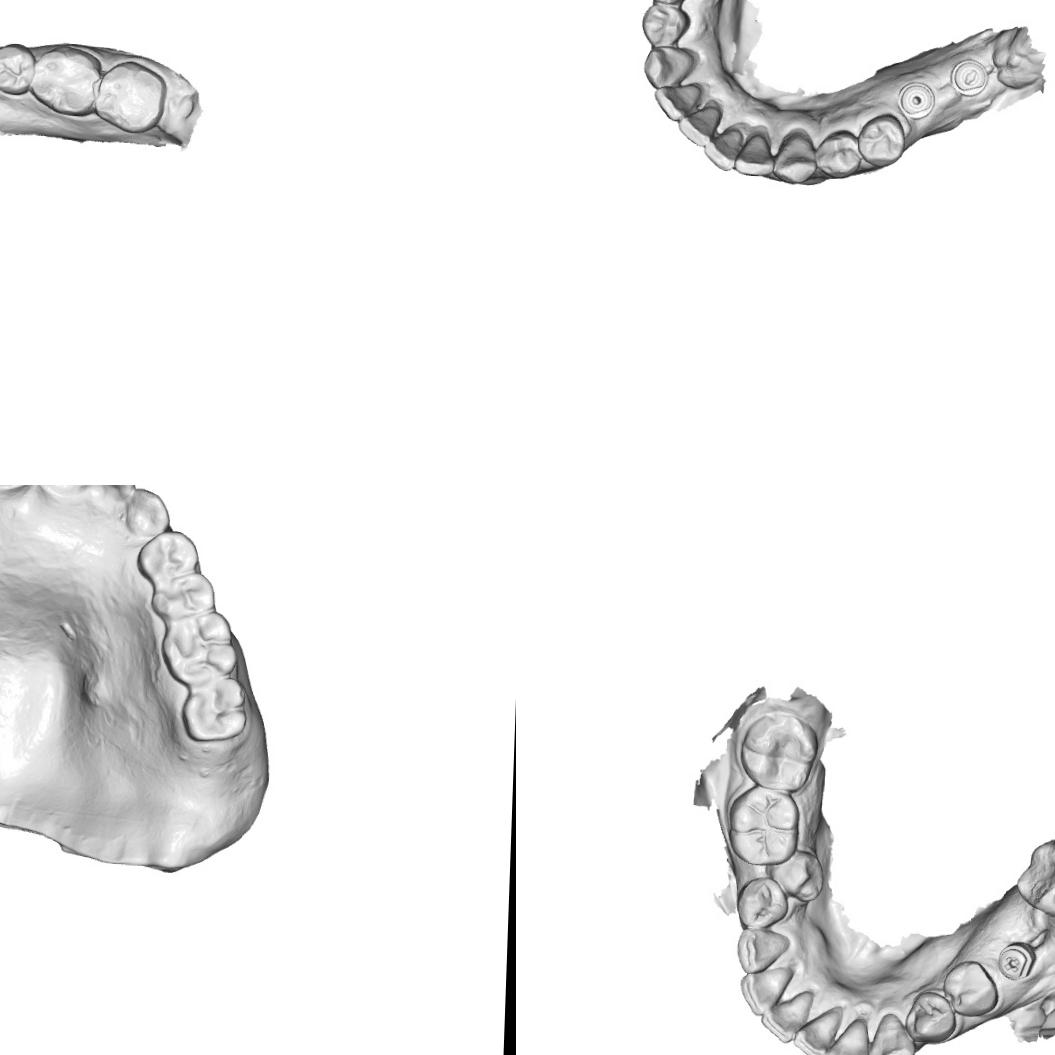canine: (731, 926, 791, 977), (772, 127, 819, 185), (641, 42, 696, 89), (866, 1010, 918, 1055), (125, 485, 173, 533)
implant: (896, 77, 938, 122)
implant_minus: (948, 57, 990, 100)
implant_plus: (997, 941, 1037, 983)
incisor: (758, 986, 818, 1046), (738, 962, 797, 1018), (790, 1004, 842, 1055), (652, 80, 704, 124), (733, 126, 776, 178), (676, 102, 724, 148), (823, 1015, 875, 1055), (701, 125, 744, 173), (91, 485, 135, 510), (37, 485, 98, 498)
molar: (737, 710, 822, 795), (725, 784, 801, 868), (92, 58, 168, 135), (159, 611, 237, 686), (28, 44, 103, 117), (178, 677, 252, 743), (1011, 831, 1055, 922)
premolar: (940, 958, 1001, 1018), (762, 848, 826, 904), (149, 570, 217, 622), (136, 529, 200, 584), (733, 873, 790, 930), (903, 990, 957, 1046), (856, 111, 908, 169), (639, 2, 692, 50), (815, 128, 862, 180), (0, 41, 36, 96)
